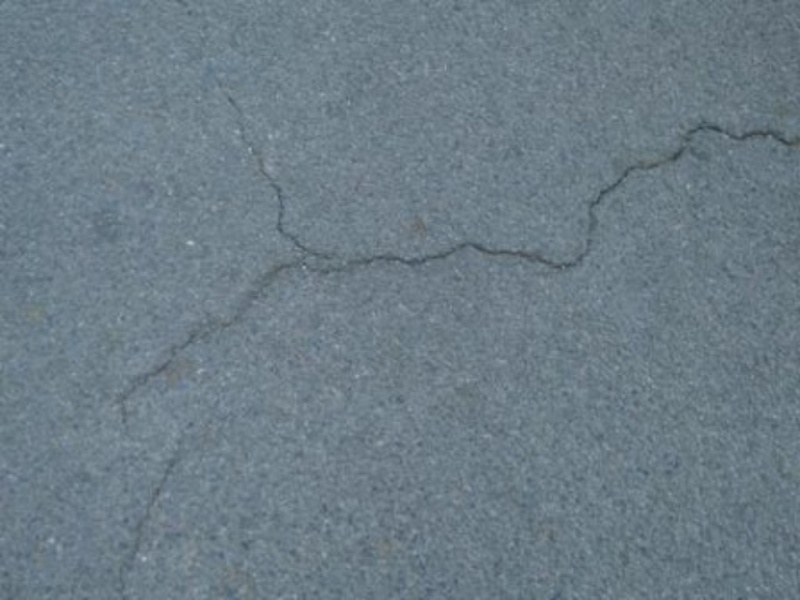crack: (101, 105, 800, 426), (213, 74, 334, 273), (111, 401, 208, 590)
